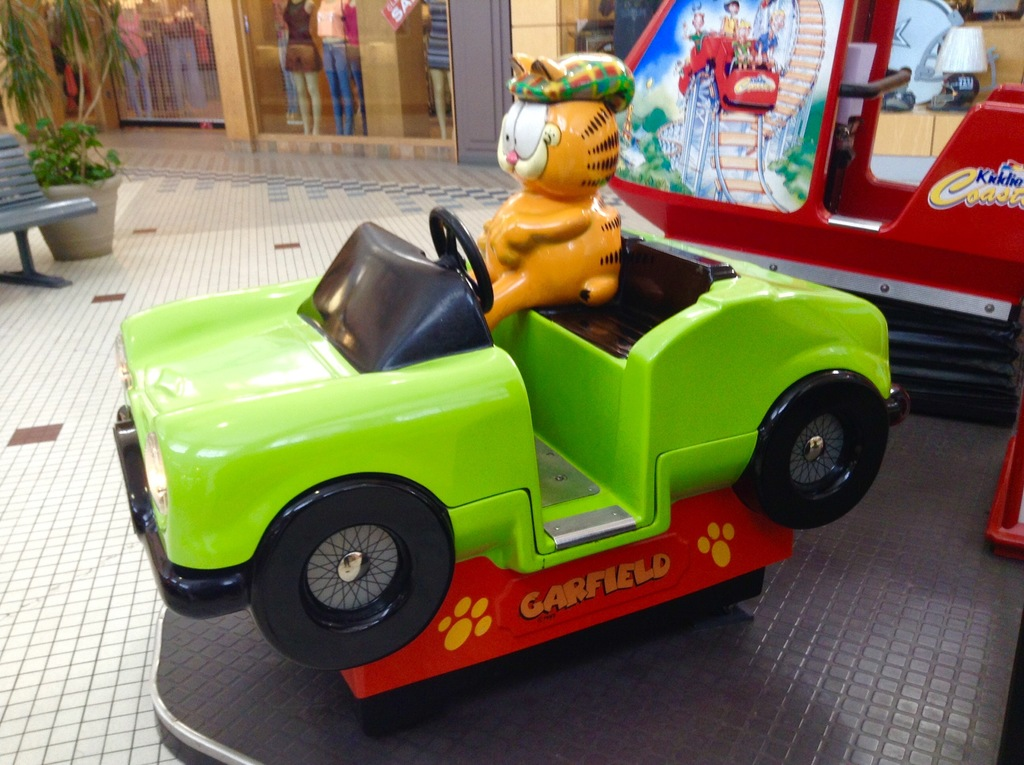Car: (114, 124, 911, 706)
